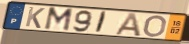9: (73, 9, 94, 33)
A: (114, 12, 142, 37)
I: (94, 10, 109, 34)
K: (23, 6, 46, 30)
M: (43, 6, 75, 33)
O: (142, 14, 168, 38)
